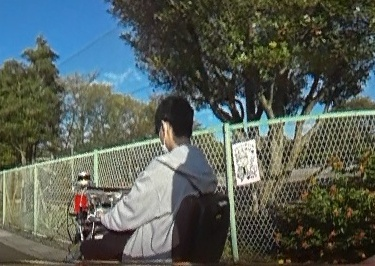person: (99, 97, 217, 260)
